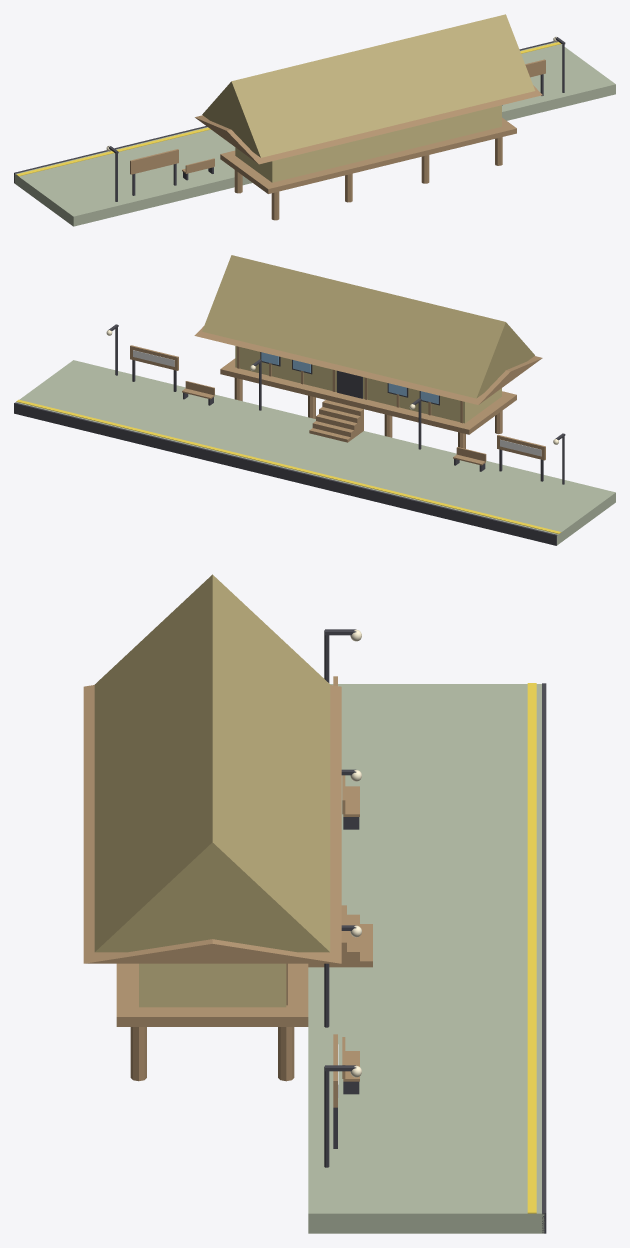
The model's file is Station_jungle.fbx.
3 views of the same model, one above another, from view 1: azimuth 30°, elevation 25°; view 2: azimuth 150°, elevation 25°; view 3: azimuth 270°, elevation 25° (orthographic). The views are drawn at different scales.
Parts seen in each view (by area): view 1: Station_jungle; view 2: Station_jungle; view 3: Station_jungle.
Part boxes in pixels (x1,y1,x2,y2): Station_jungle: (14, 14, 615, 226); Station_jungle: (14, 255, 615, 545); Station_jungle: (83, 574, 546, 1233).
Size of the model in its own units: 34 by 7.8 by 12.56.
